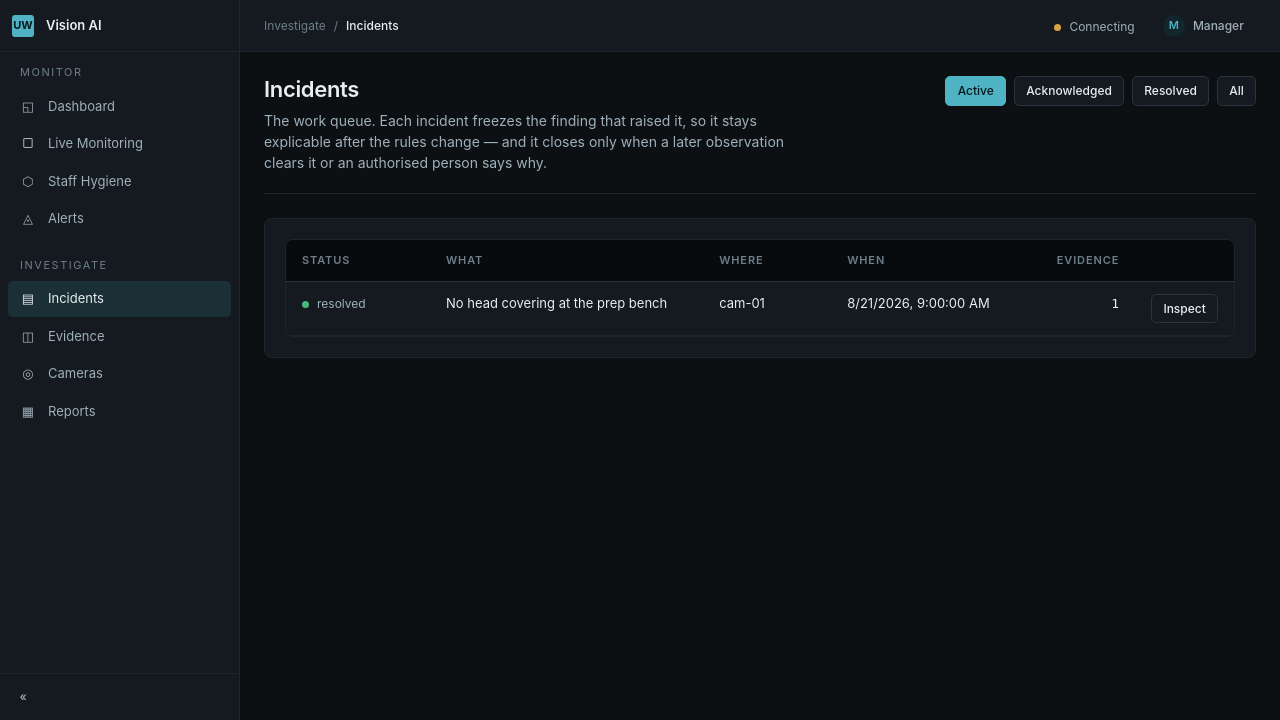
Test case: the incident queue › says which of the two ways a resolved incident was closed
Step 1. Click the button "Inspect" → [1185, 309], box [1151,294,1218,324]
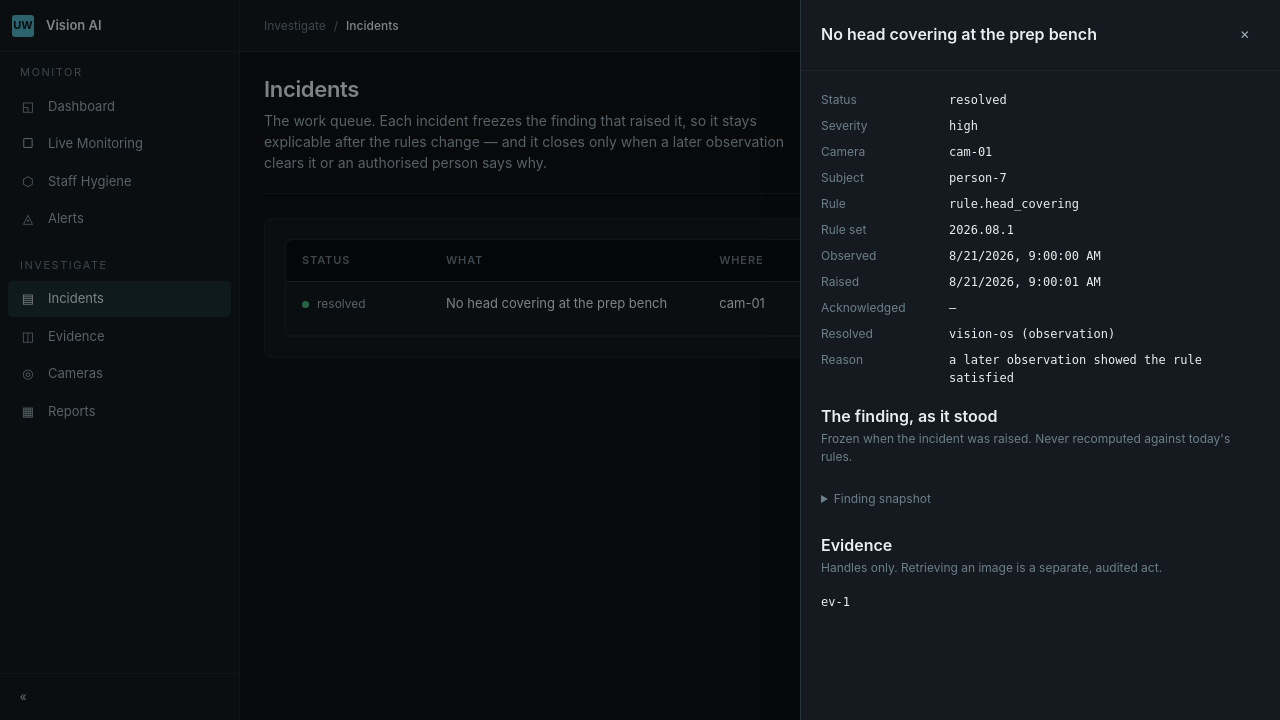
Expected: the text "vision-os (observation)" is shown, [949,327,1115,341]
